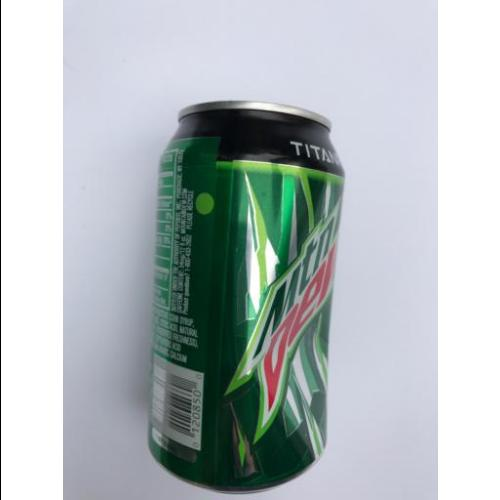metal: (160, 102, 328, 490)
